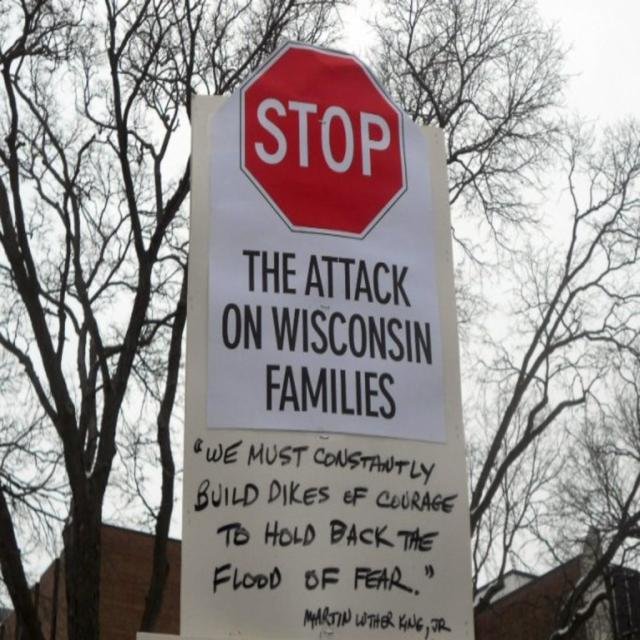Stop-sign: (239, 39, 409, 241)
